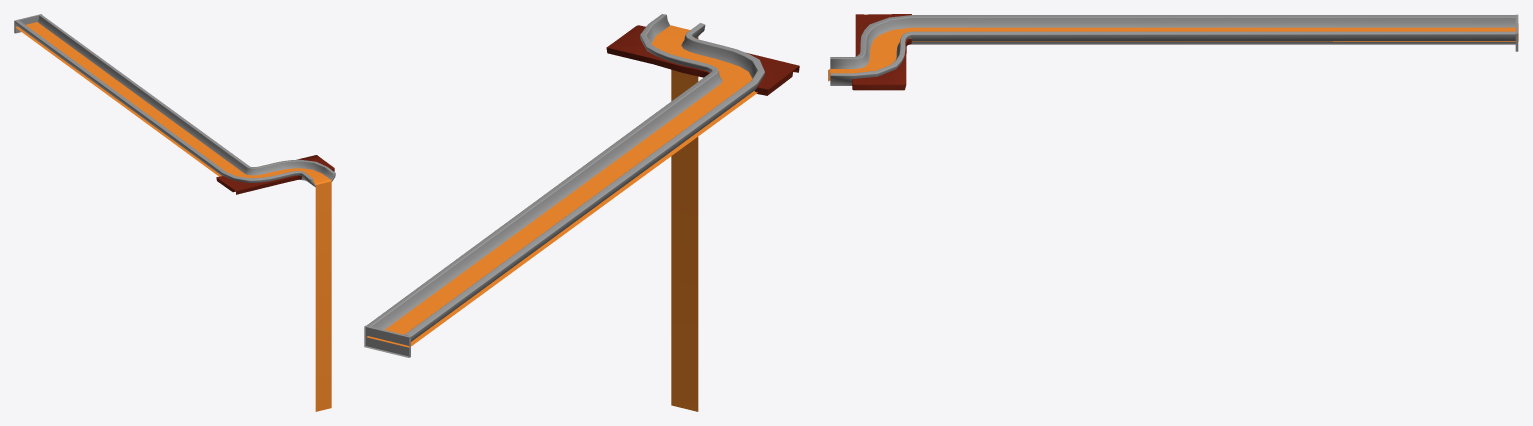
The model's file is SM_Gully.FBX.
3 views of the same model, side by side, from view 1: azimuth 30°, elevation 25°; view 2: azimuth 150°, elevation 25°; view 3: azimuth 270°, elevation 25° (orthographic). The views are drawn at different scales.
Parts seen in each view (by area): view 1: Gully; view 2: Gully; view 3: Gully.
Boxes of the visible parts, box(x1,y1,x2,y2) form: Gully: box(14, 14, 335, 411); Gully: box(364, 14, 799, 411); Gully: box(828, 14, 1518, 90).
Bounding box in the file's own units: 1329 × 5526 × 3007.
